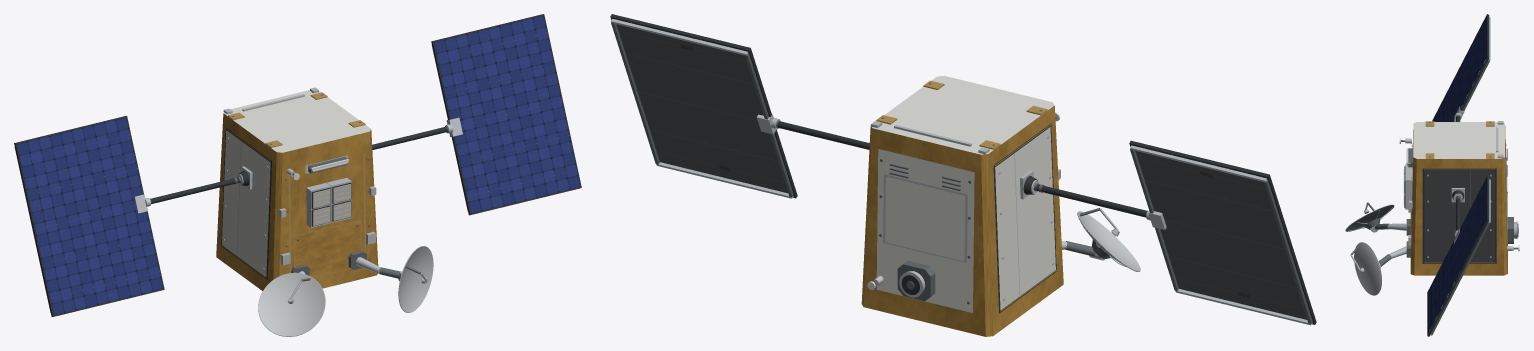
Rendered from oneweb.glb.
3 renders of one model, left to right at view 1: azimuth 30°, elevation 25°; view 2: azimuth 150°, elevation 25°; view 3: azimuth 270°, elevation 25°, orthographic. The views are drawn at different scales.
Visible parts, largest first — view 1: Single photovoltaic panel - Blue clipped-corner photovoltaic (×2), Tapered Arrow bus and multilayer insulation - Folded gold mu, Port thermal side and array drive - White radiator coating, Tapered Arrow bus and multilayer insulation - White radiator, Port steerable Ka gateway reflector - Bright parabolic refle, Earth-facing communications deck - Folded gold multilayer in, Single photovoltaic panel - Graphite booms and brackets (×2), Starboard steerable Ka gateway reflector - Bright parabolic , Single deployment boom - Graphite booms and brackets (×2), Earth-facing communications deck - Gold seam and retention t, Port thermal side and array drive - Graphite booms and brack, Right Ku antenna housing - Silver-grey antenna inserts (+4 smaller); view 2: Single photovoltaic panel - Reverse panel wiring (×2), Tapered Arrow bus and multilayer insulation - Folded gold mu, Aft avionics and electric propulsion - White radiator coatin, Port thermal side and array drive - White radiator coating, Tapered Arrow bus and multilayer insulation - White radiator, Single photovoltaic panel - Satin aluminium fittings (×2), Single photovoltaic panel - Dark brushed gimbal alloy (×2), Single photovoltaic panel - Graphite booms and brackets (×2), Single deployment boom - Graphite booms and brackets (×2), Aft avionics and electric propulsion - Dark brushed gimbal a, Aft avionics and electric propulsion - Satin aluminium fitti, Port steerable Ka gateway reflector - Bright parabolic refle (+2 smaller); view 3: Starboard thermal side and array drive - Inset thermal panel, Single photovoltaic panel - Blue clipped-corner photovoltaic (×2), Tapered Arrow bus and multilayer insulation - Folded gold mu, Tapered Arrow bus and multilayer insulation - White radiator, Starboard steerable Ka gateway reflector - Bright parabolic , Single photovoltaic panel - Graphite booms and brackets (×2), Starboard thermal side and array drive - Graphite booms and , Port steerable Ka gateway reflector - Dark brushed gimbal al, Single photovoltaic panel - Dark brushed gimbal alloy (×2), Gateway antenna support arms and gimbals - Dark brushed gimb, Gateway antenna support arms and gimbals - Satin aluminium f, Right Ku antenna housing - Satin aluminium fittings (+8 smaller).
Part boxes in pixels (x1,y1,x2,y2): Single photovoltaic panel - Blue clipped-corner photovoltaic (×2): (16,15,580,315); Tapered Arrow bus and multilayer insulation - Folded gold mu: (216,113,378,290); Port thermal side and array drive - White radiator coating: (222,130,270,276); Tapered Arrow bus and multilayer insulation - White radiator: (223,90,370,152); Port steerable Ka gateway reflector - Bright parabolic refle: (258,273,325,336); Earth-facing communications deck - Folded gold multilayer in: (293,220,360,277); Single photovoltaic panel - Graphite booms and brackets (×2): (14,14,581,316); Starboard steerable Ka gateway reflector - Bright parabolic : (399,246,433,312); Single deployment boom - Graphite booms and brackets (×2): (150,127,447,203); Earth-facing communications deck - Gold seam and retention t: (288,153,366,277); Port thermal side and array drive - Graphite booms and brack: (221,127,271,279); Right Ku antenna housing - Silver-grey antenna inserts: (333,184,350,220); Single photovoltaic panel - Reverse panel wiring (×2): (612,18,1313,323); Tapered Arrow bus and multilayer insulation - Folded gold mu: (861,105,1063,336); Aft avionics and electric propulsion - White radiator coatin: (876,149,974,312); Port thermal side and array drive - White radiator coating: (995,127,1055,310); Tapered Arrow bus and multilayer insulation - White radiator: (872,75,1054,154); Single photovoltaic panel - Satin aluminium fittings (×2): (611,19,1312,325); Single photovoltaic panel - Dark brushed gimbal alloy (×2): (611,22,1312,323); Single photovoltaic panel - Graphite booms and brackets (×2): (610,14,1316,324); Single deployment boom - Graphite booms and brackets (×2): (777,121,1147,217); Aft avionics and electric propulsion - Dark brushed gimbal a: (879,159,971,304); Aft avionics and electric propulsion - Satin aluminium fitti: (883,174,967,297); Port steerable Ka gateway reflector - Bright parabolic refle: (1078,211,1140,271); Starboard thermal side and array drive - Inset thermal panel: (1424,170,1495,262); Single photovoltaic panel - Blue clipped-corner photovoltaic (×2): (1427,16,1486,333); Tapered Arrow bus and multilayer insulation - Folded gold mu: (1410,126,1507,275); Tapered Arrow bus and multilayer insulation - White radiator: (1413,122,1504,158); Starboard steerable Ka gateway reflector - Bright parabolic : (1354,242,1381,295); Single photovoltaic panel - Graphite booms and brackets (×2): (1427,14,1489,336); Starboard thermal side and array drive - Graphite booms and : (1422,168,1496,263); Port steerable Ka gateway reflector - Dark brushed gimbal al: (1346,202,1394,231); Single photovoltaic panel - Dark brushed gimbal alloy (×2): (1431,60,1489,334); Gateway antenna support arms and gimbals - Dark brushed gimb: (1374,219,1410,266); Gateway antenna support arms and gimbals - Satin aluminium f: (1370,223,1406,268); Right Ku antenna housing - Satin aluminium fittings: (1405,172,1412,209).
Bounding box in the file's own units: 5 × 1.74 × 1.79.
Materials: 12 (3 with a texture image).
